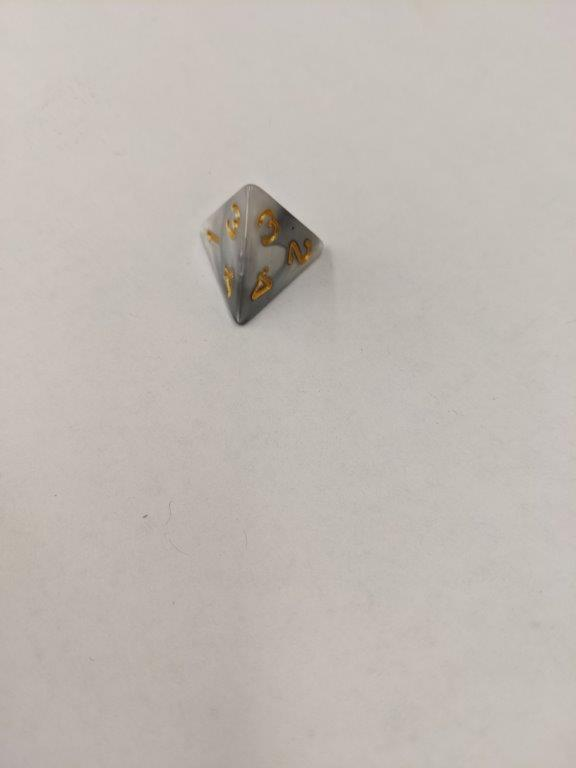d4-3: (196, 179, 329, 327)
